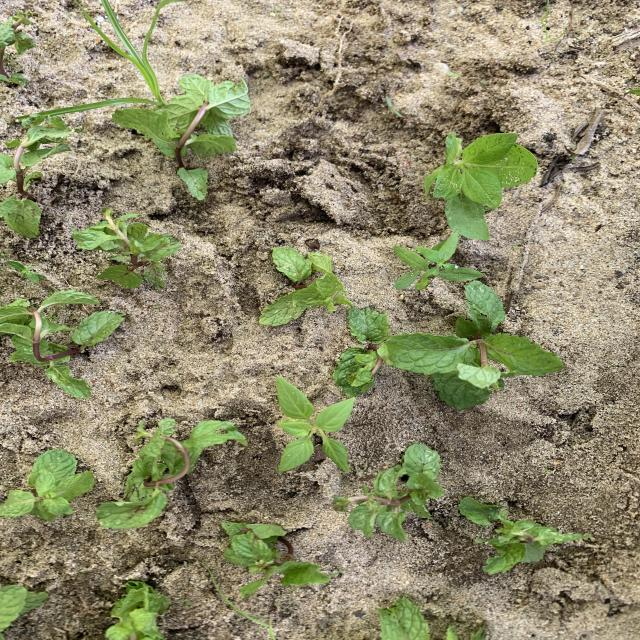crop: (378, 282, 563, 409), (112, 74, 250, 200), (96, 418, 245, 529), (2, 291, 123, 398), (334, 444, 443, 539), (458, 497, 589, 574), (0, 113, 74, 238), (73, 208, 180, 287), (222, 524, 337, 594), (259, 248, 351, 325), (0, 451, 94, 519), (394, 234, 483, 290), (333, 307, 389, 396), (107, 582, 168, 639), (1, 585, 47, 639), (1, 14, 34, 83), (379, 598, 431, 639)
weed: (39, 0, 175, 116), (424, 133, 537, 240), (276, 376, 354, 472), (394, 233, 483, 289), (211, 574, 275, 639), (7, 262, 44, 282), (386, 97, 403, 116), (179, 599, 191, 608), (544, 467, 551, 471)
